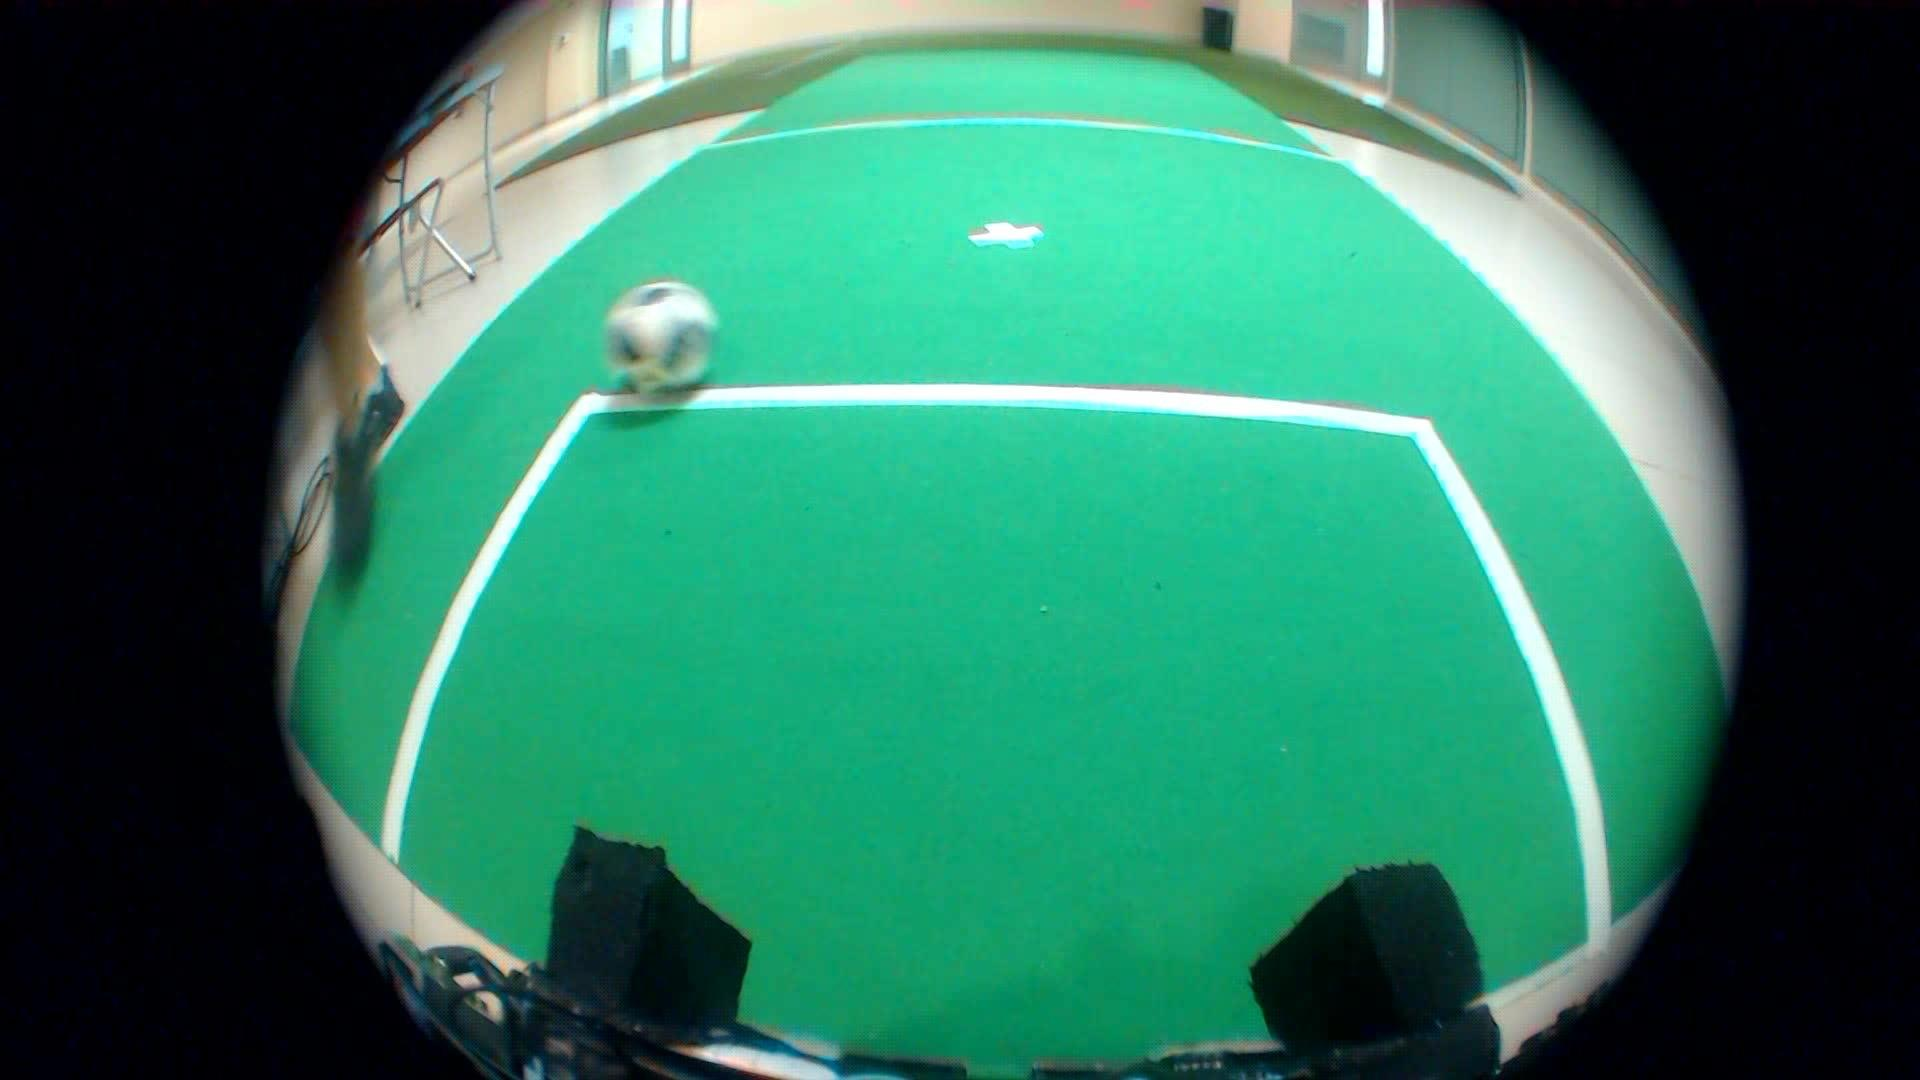ball: (593, 266, 738, 410)
